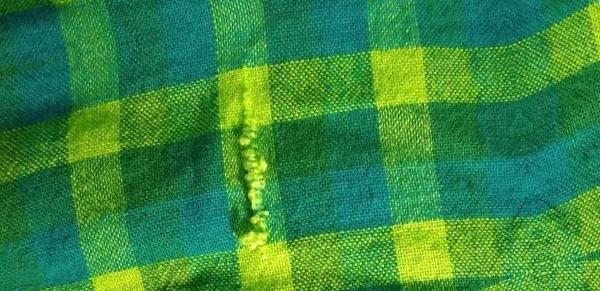knot: (225, 67, 284, 259)
